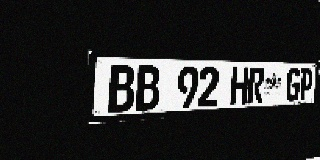2: (198, 67, 219, 107)
9: (177, 66, 199, 108)
B: (108, 65, 135, 113), (135, 65, 160, 111)
G: (285, 68, 301, 101)
H: (230, 67, 249, 105)
P: (299, 68, 314, 100)
R: (247, 67, 265, 104)
